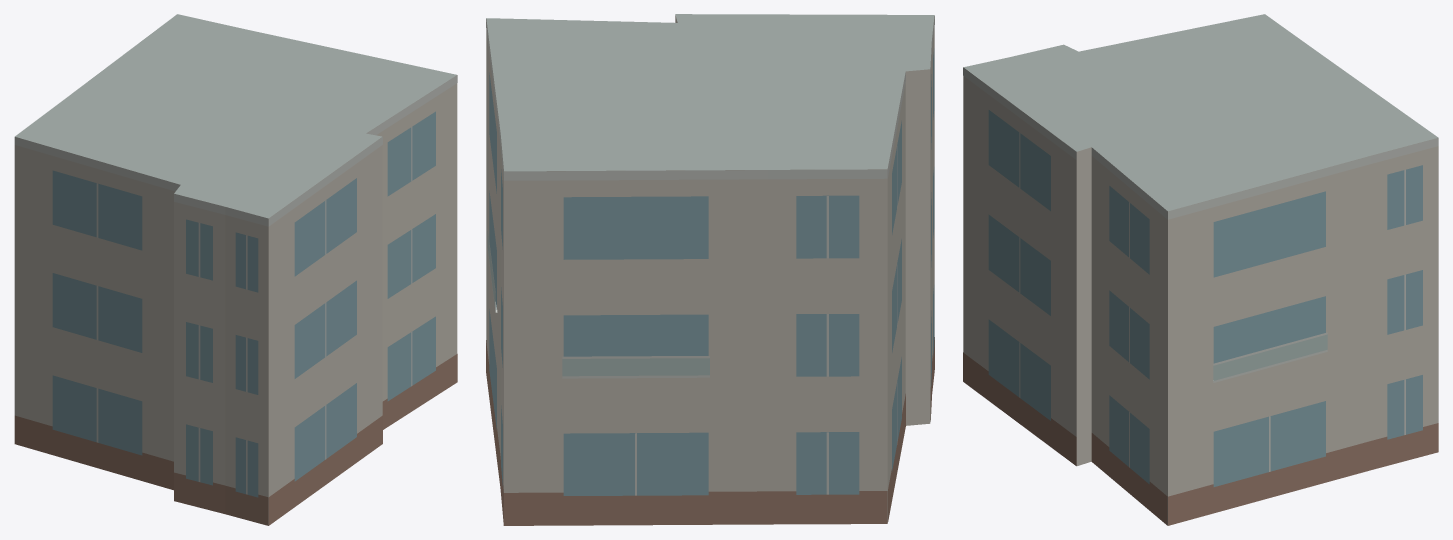
Rendered from survey-upis-32650659.glb.
3 views of the same model, side by side, from view 1: azimuth 30°, elevation 25°; view 2: azimuth 150°, elevation 25°; view 3: azimuth 270°, elevation 25° (orthographic). The views are drawn at different scales.
Parts seen in each view (by area): view 1: survey-upis-32650659.tmp; view 2: survey-upis-32650659.tmp; view 3: survey-upis-32650659.tmp.
Part boxes in pixels (x1,y1,x2,y2): survey-upis-32650659.tmp: [14, 14, 457, 525]; survey-upis-32650659.tmp: [486, 14, 934, 525]; survey-upis-32650659.tmp: [963, 14, 1438, 525].
Size of the model in its own units: 12.33 by 9.15 by 12.54.
